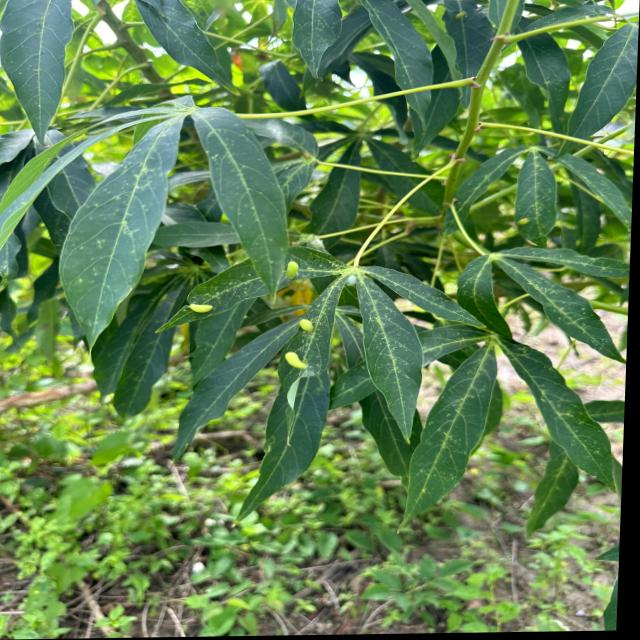Maleza: (4, 398, 146, 633)
Mosca: (277, 345, 316, 374), (180, 296, 220, 323), (294, 304, 324, 336), (281, 252, 307, 288)
